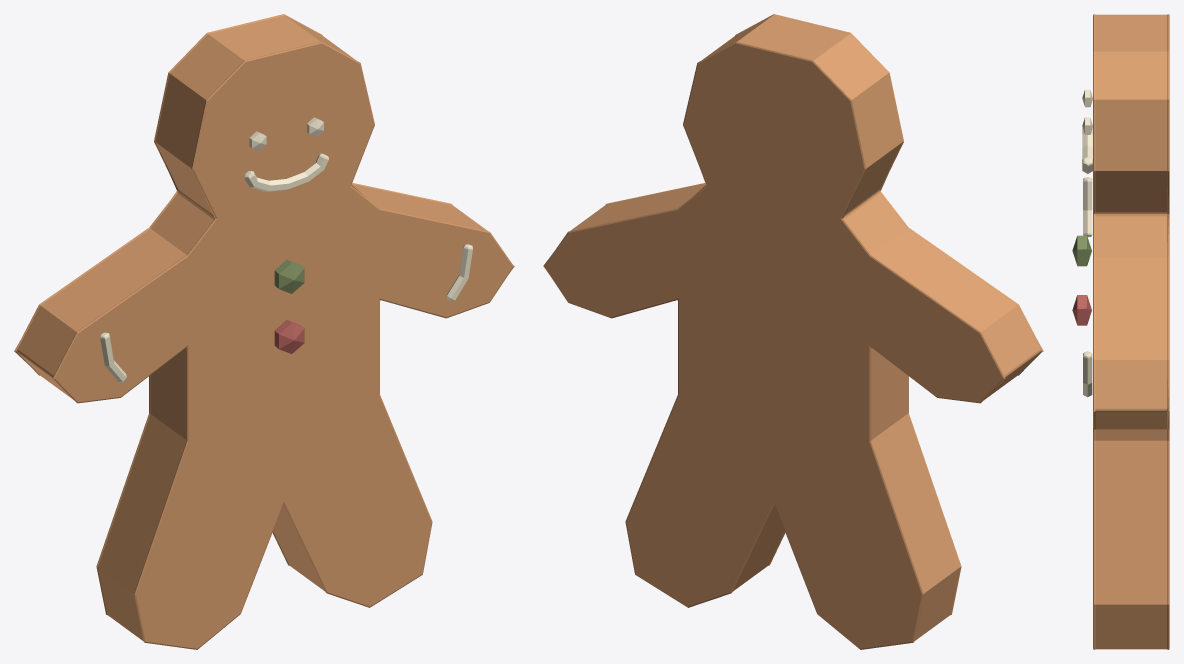
File: gingerbread.glb
3 views of the same model, side by side, from view 1: azimuth 30°, elevation 25°; view 2: azimuth 150°, elevation 25°; view 3: azimuth 270°, elevation 25° (orthographic).
Visible parts, largest first — view 1: gingerbread; view 2: gingerbread; view 3: gingerbread.
Boxes of the visible parts, x1,y1,x2,y2 form: gingerbread: [14, 14, 514, 649]; gingerbread: [543, 14, 1043, 649]; gingerbread: [1072, 14, 1169, 649].
Size of the model in its own units: 0.0966 by 0.1152 by 0.0178.
